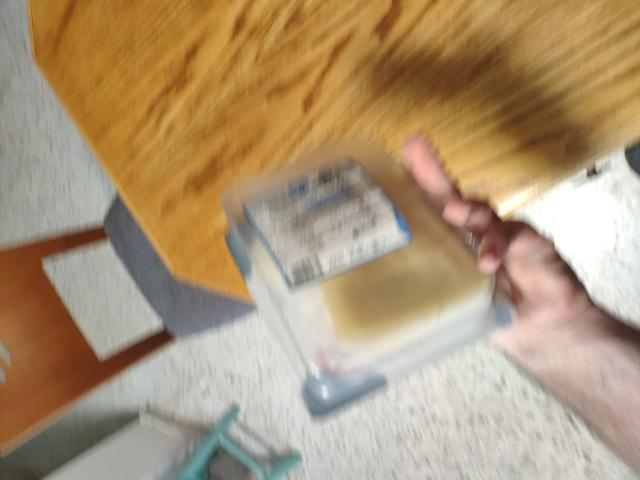cheese: (232, 156, 490, 369)
